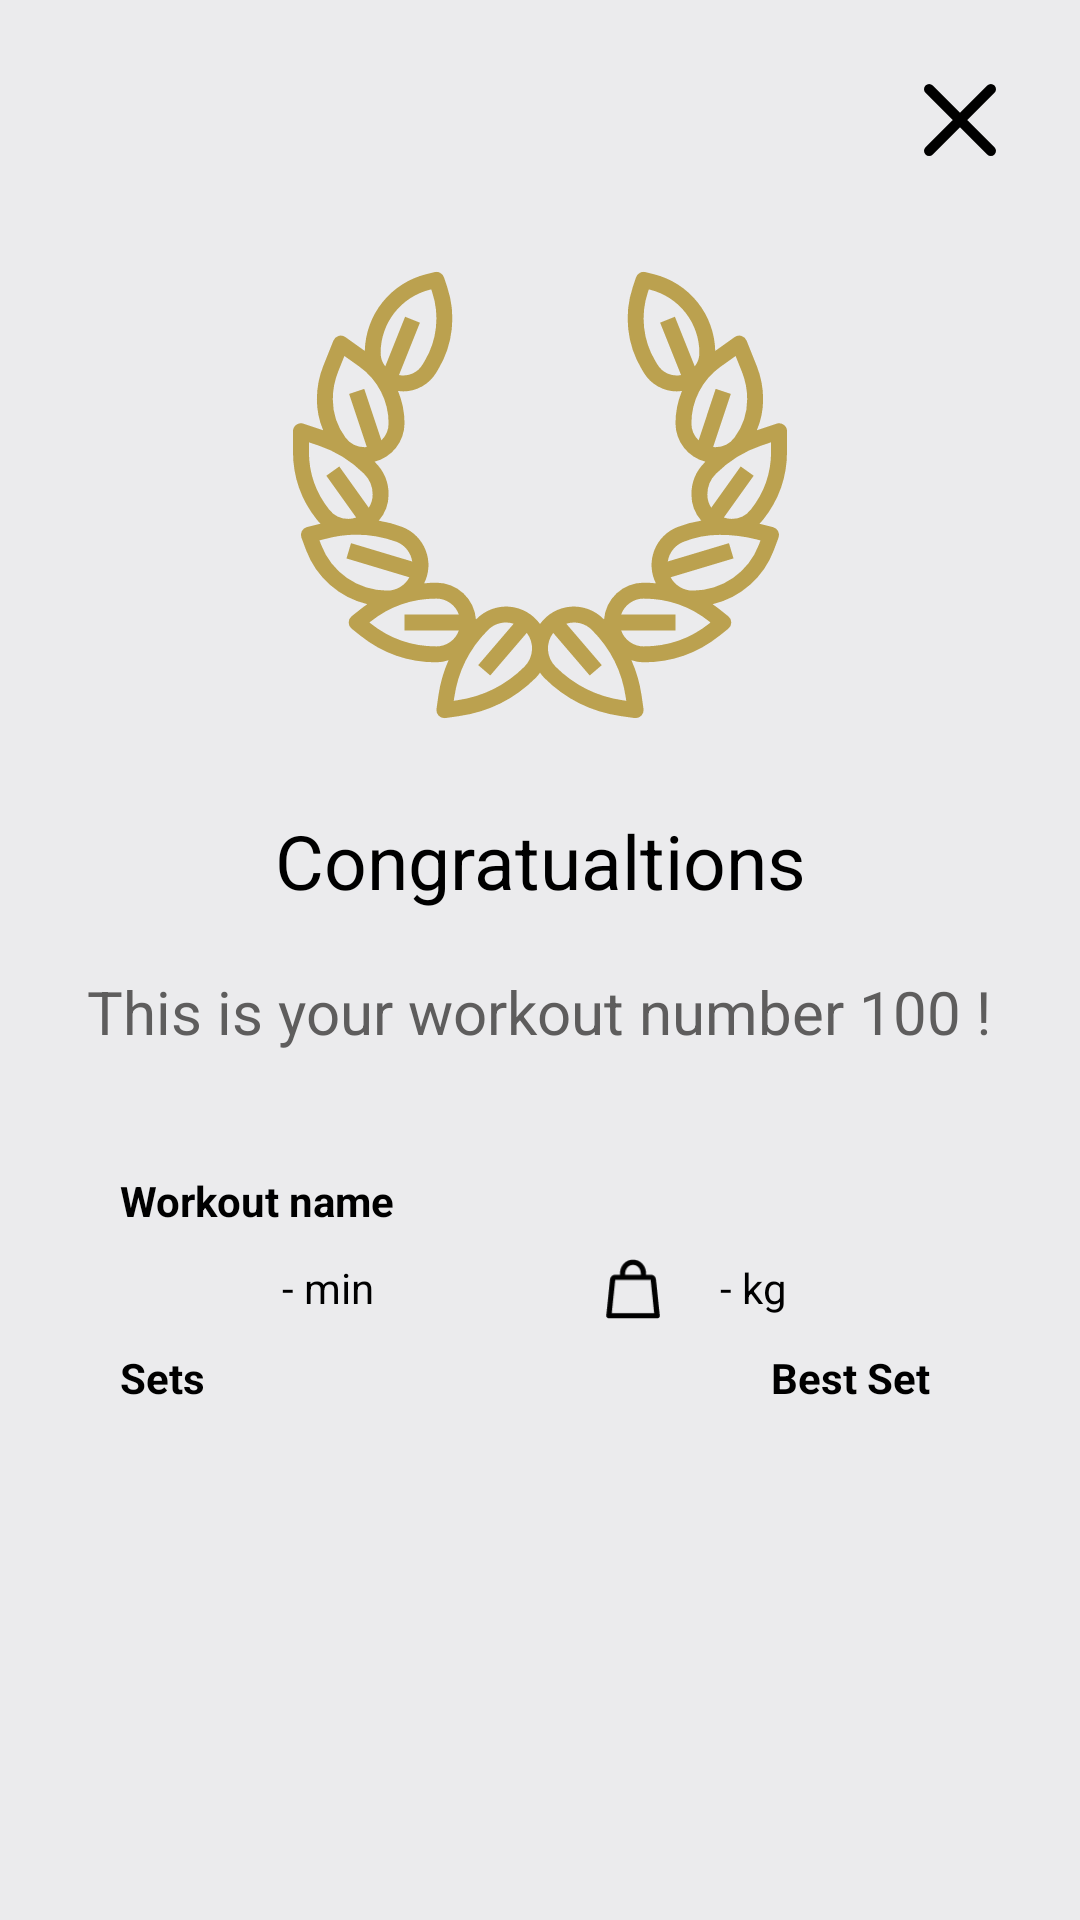

Named icons in this screenshot (1080*1920) and their bounding boxes, BBox(x1, y1, x2, y2):
weight: BBox(606, 1259, 660, 1319)
